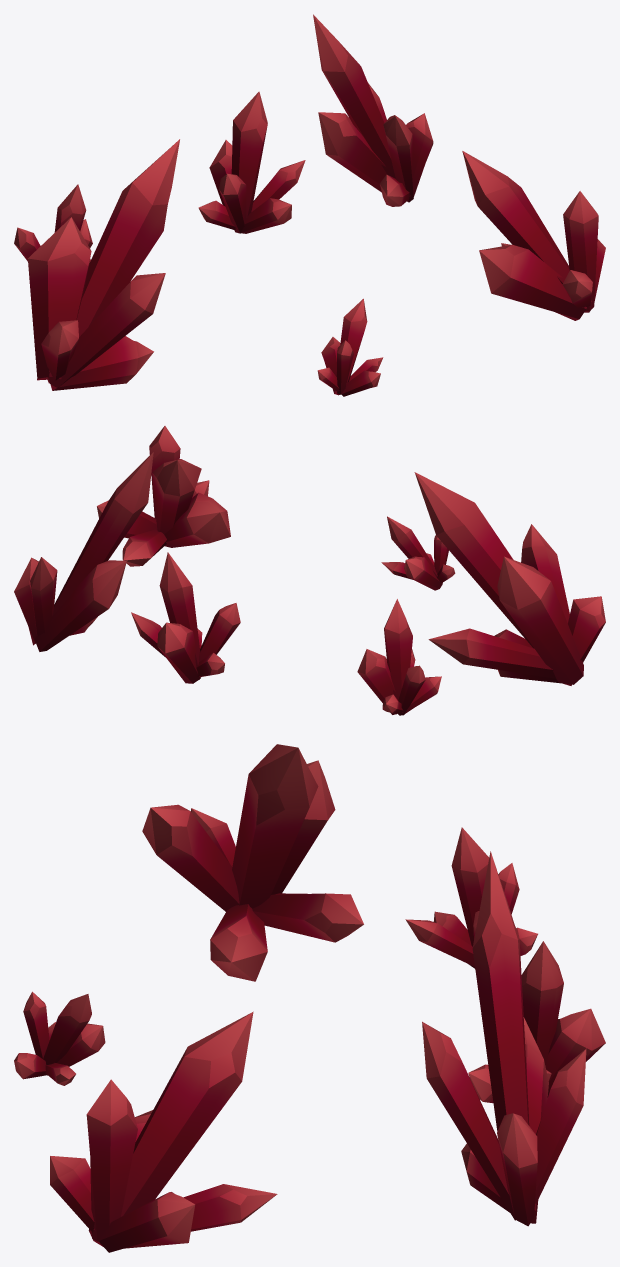
The model's file is SilverRuin_Crystal.fbx.
The picture shows the model from 3 angles, top to bottom: view 1: azimuth 30°, elevation 25°; view 2: azimuth 150°, elevation 25°; view 3: azimuth 270°, elevation 25°; orthographic projection. The views are drawn at different scales.
Visible parts, largest first — view 1: SilverRuin_Crystal; view 2: SilverRuin_Crystal; view 3: SilverRuin_Crystal.
Part boxes in pixels (x1,y1,x2,y2): SilverRuin_Crystal: (14, 14, 605, 396); SilverRuin_Crystal: (14, 426, 605, 715); SilverRuin_Crystal: (14, 744, 605, 1252).
Size of the model in its own units: 1596 by 659 by 1111.
